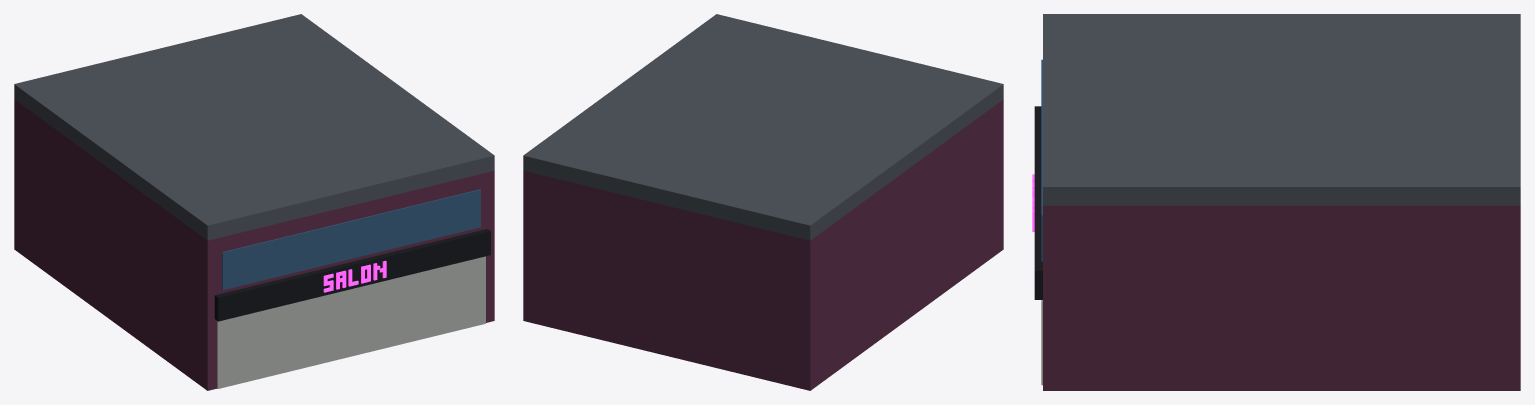
The model's file is bld_dt_retail_b.glb.
The picture shows the model from 3 angles, left to right: view 1: azimuth 30°, elevation 25°; view 2: azimuth 150°, elevation 25°; view 3: azimuth 270°, elevation 25°; orthographic projection. The views are drawn at different scales.
Visible parts, largest first — view 1: bld_dt_retail_b; view 2: bld_dt_retail_b; view 3: bld_dt_retail_b.
Part boxes in pixels (x1,y1,x2,y2): bld_dt_retail_b: (14,14,494,390); bld_dt_retail_b: (523,14,1003,390); bld_dt_retail_b: (1032,14,1520,390).
Size of what is drawn, in the model's own units: 12 by 6.6 by 14.31.
